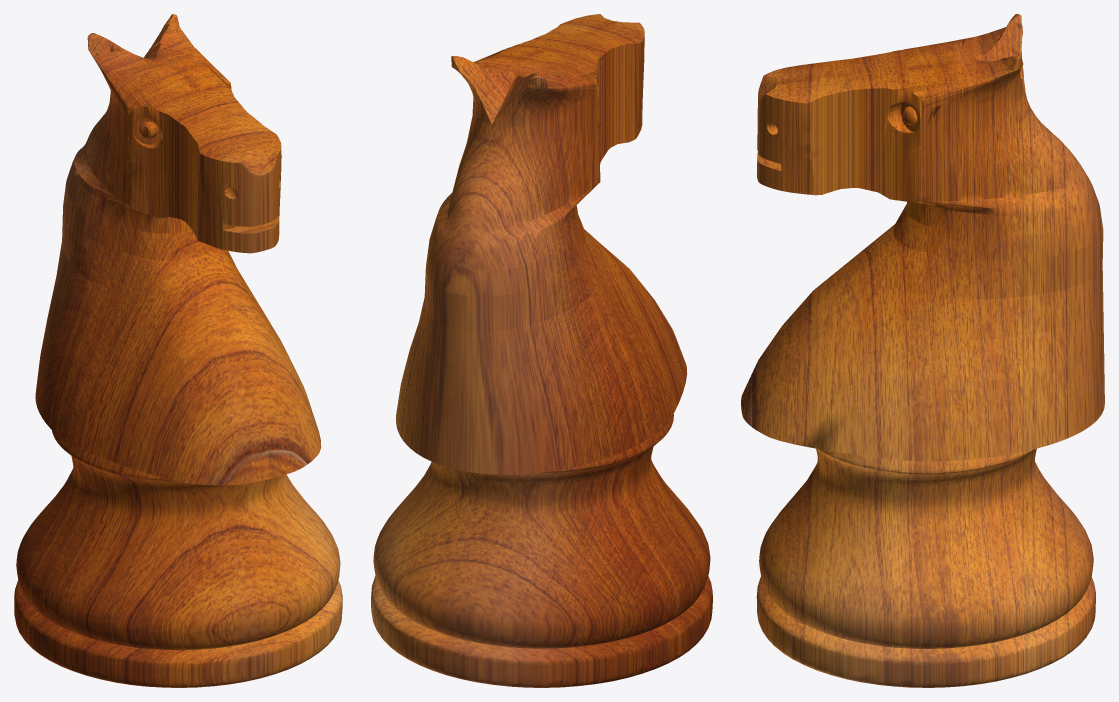
Rendered from branco-cavalo.obj.
3 renders of one model, left to right at view 1: azimuth 30°, elevation 25°; view 2: azimuth 150°, elevation 25°; view 3: azimuth 270°, elevation 25°, orthographic. The views are drawn at different scales.
Visible parts, largest first — view 1: Object3; view 2: Object3; view 3: Object3.
Part boxes in pixels (box(x1,y1,x2,y2)): Object3: box(14, 14, 342, 687); Object3: box(371, 14, 712, 687); Object3: box(741, 14, 1104, 687).
Bounding box in the file's own units: 173 × 329 × 186.
Materials: 1 (1 with a texture image).
